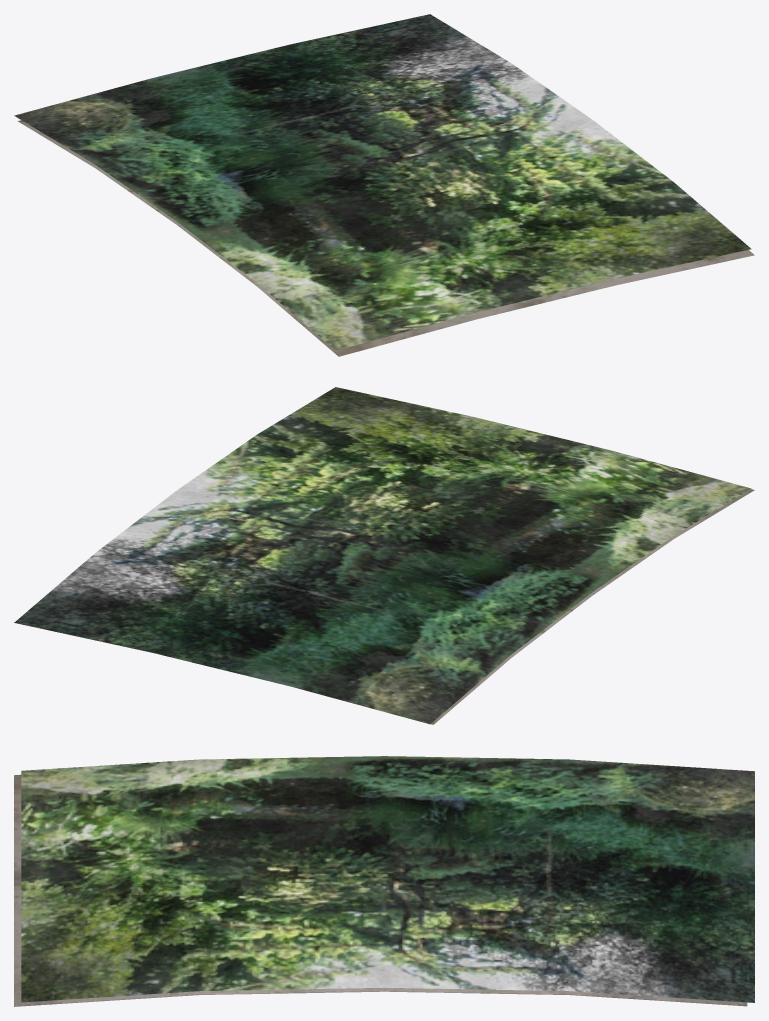
The model's file is 04_02_lindwall_photos05.dae.
3 views of the same model, one above another, from view 1: azimuth 30°, elevation 25°; view 2: azimuth 150°, elevation 25°; view 3: azimuth 270°, elevation 25° (orthographic). The views are drawn at different scales.
Parts seen in each view (by area): view 1: photograph_world01; view 2: photograph_world01; view 3: photograph_world01.
Part boxes in pixels (x1,y1,x2,y2): photograph_world01: (14,14,754,356); photograph_world01: (14,387,754,724); photograph_world01: (14,756,754,1006).
Size of the model in its own units: 0.1526 by 0.0072 by 0.2062.
